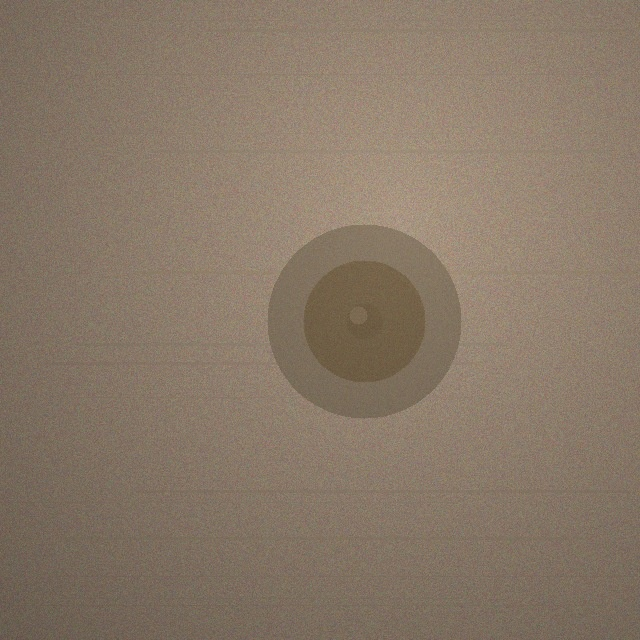good: (267, 224, 461, 418)
